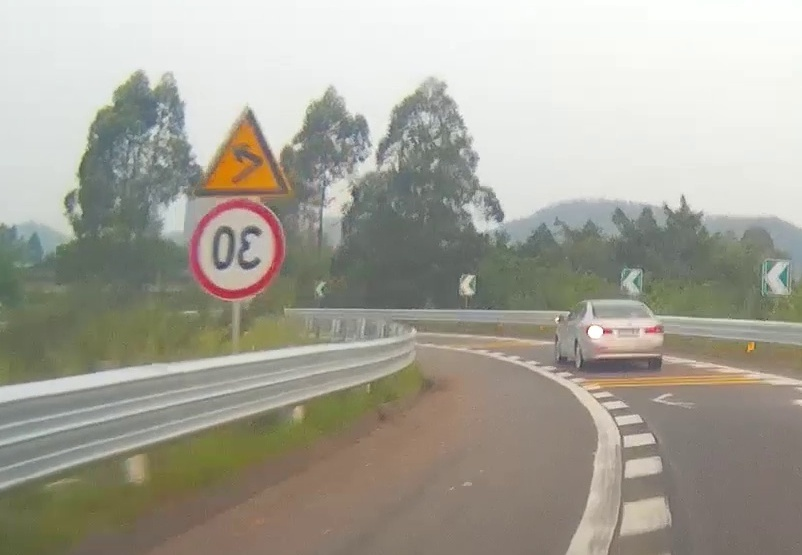L_light: (587, 325, 612, 335)
R_light: (644, 325, 663, 333)
T_light: (615, 305, 624, 307)
day-left: (583, 300, 664, 370)
